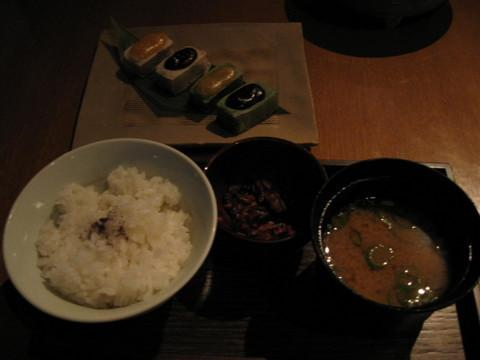rice: (38, 166, 191, 308)
